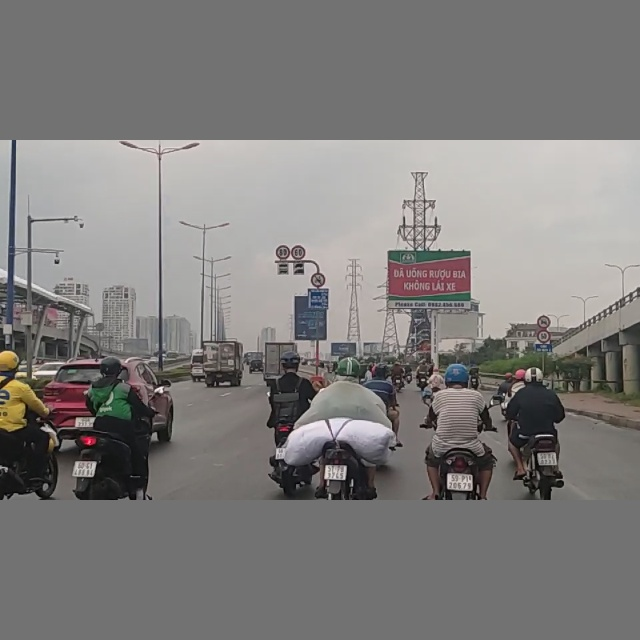P.103a: (537, 316, 551, 329)
P.104: (309, 273, 327, 286)
P.127*50: (537, 329, 551, 343)
P.127*60: (291, 245, 306, 260)
P.127*80: (275, 245, 289, 259)
